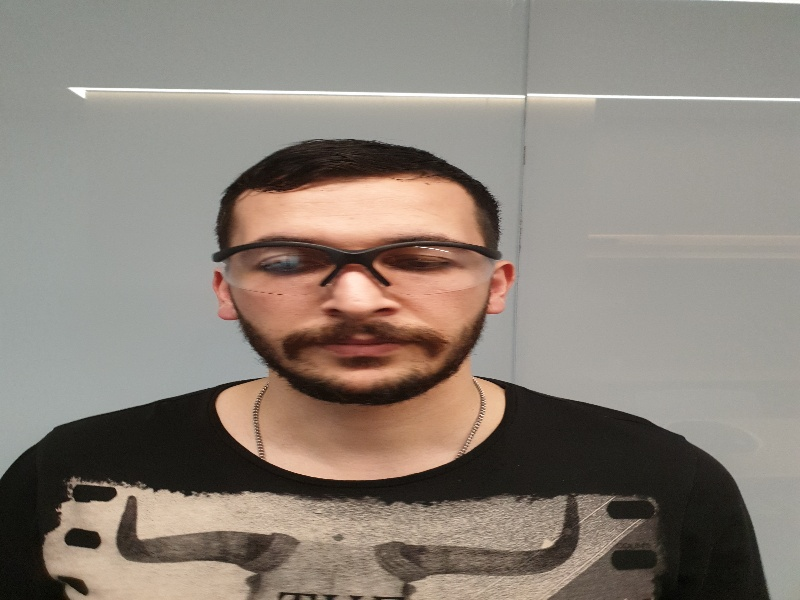Gozluk: (214, 240, 499, 294)
